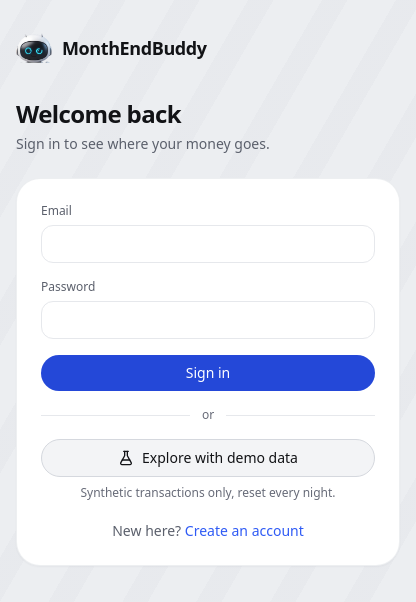
Test case: LoginPage › shows a generic message for wrong credentials
Type "asha@example.test" into the field labelled "Email".
click(208, 244); type("asha@example.test")  # box [41, 225, 375, 263]
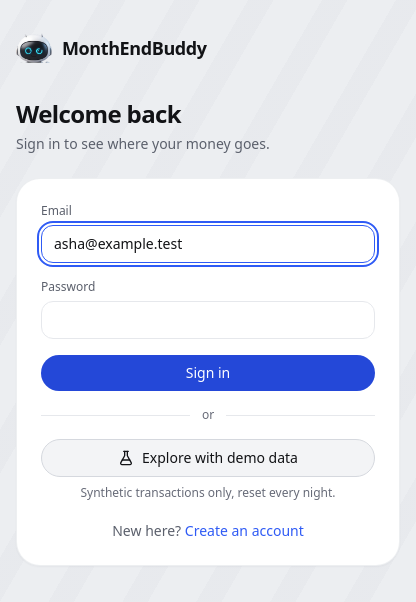
Type "wrong-password" into the password field labelled "Password".
click(208, 320); type("wrong-password")  # box [41, 301, 375, 339]
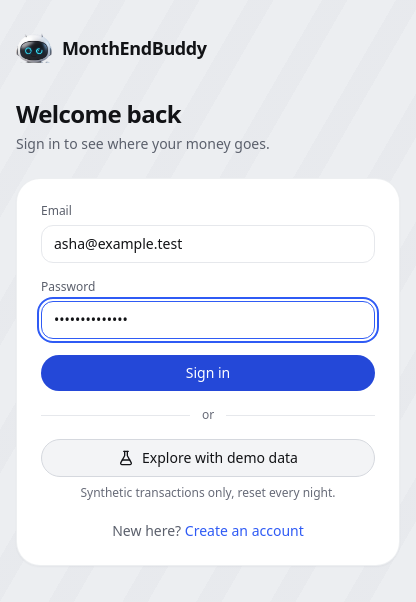
Click the button "Sign in".
click(208, 373)  # box [41, 355, 375, 391]
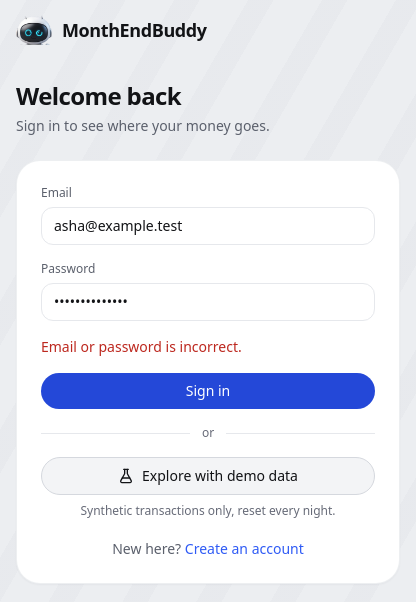
Expected: the message reads "Email or password is incorrect.", [41, 337, 242, 356]
